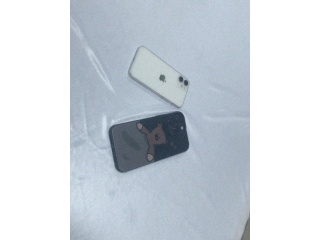phone: (108, 110, 190, 173), (128, 46, 189, 109)
